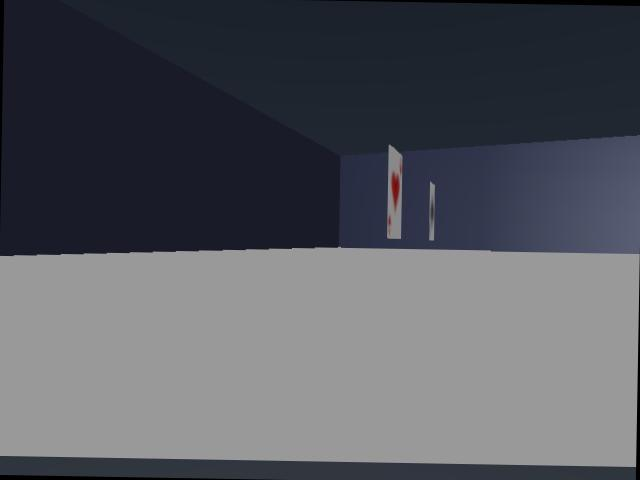heart: (387, 145, 401, 238)
